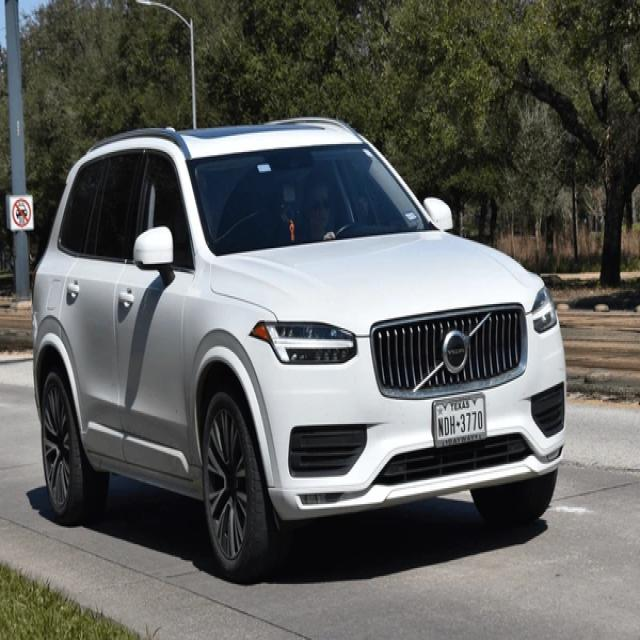volvo: (442, 326, 472, 375)
